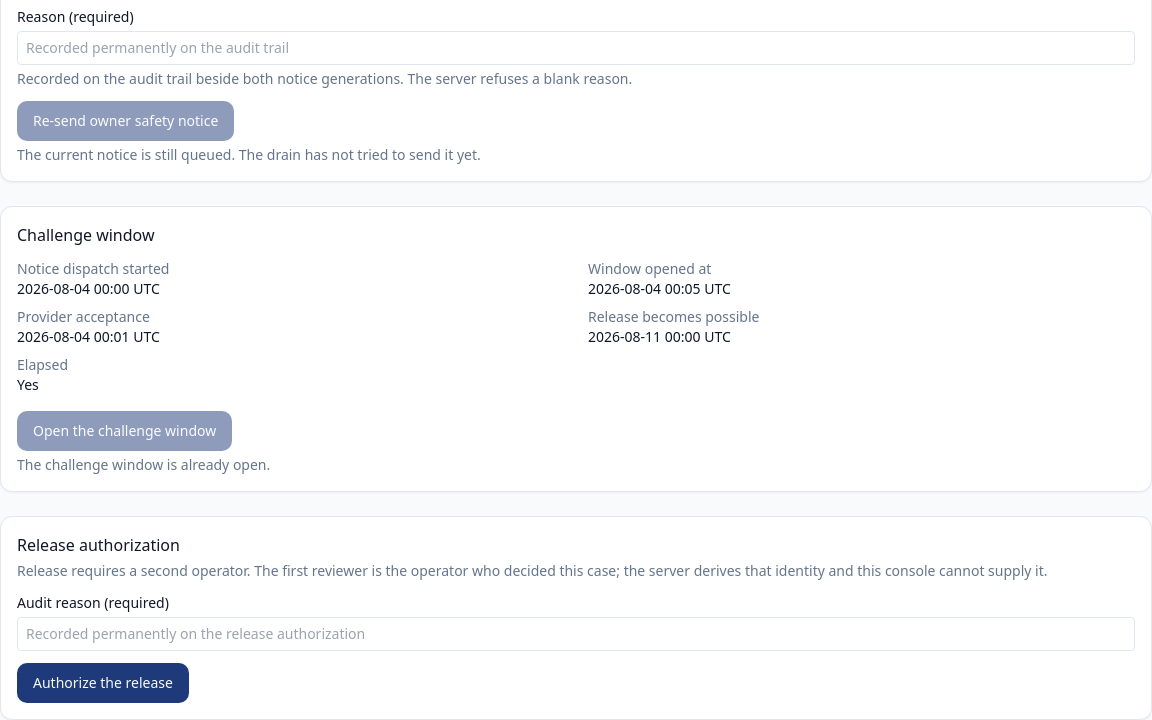
it: irreversible actions are distinguishable › names the specific consequence rather than asking 'are you sure'
(page scrolled)
Expected: the heading "Release authorization" is shown, [17,534,180,556]
Click the button "Authorize the release" at (103, 683), box [17,663,189,703]
(page scrolled)
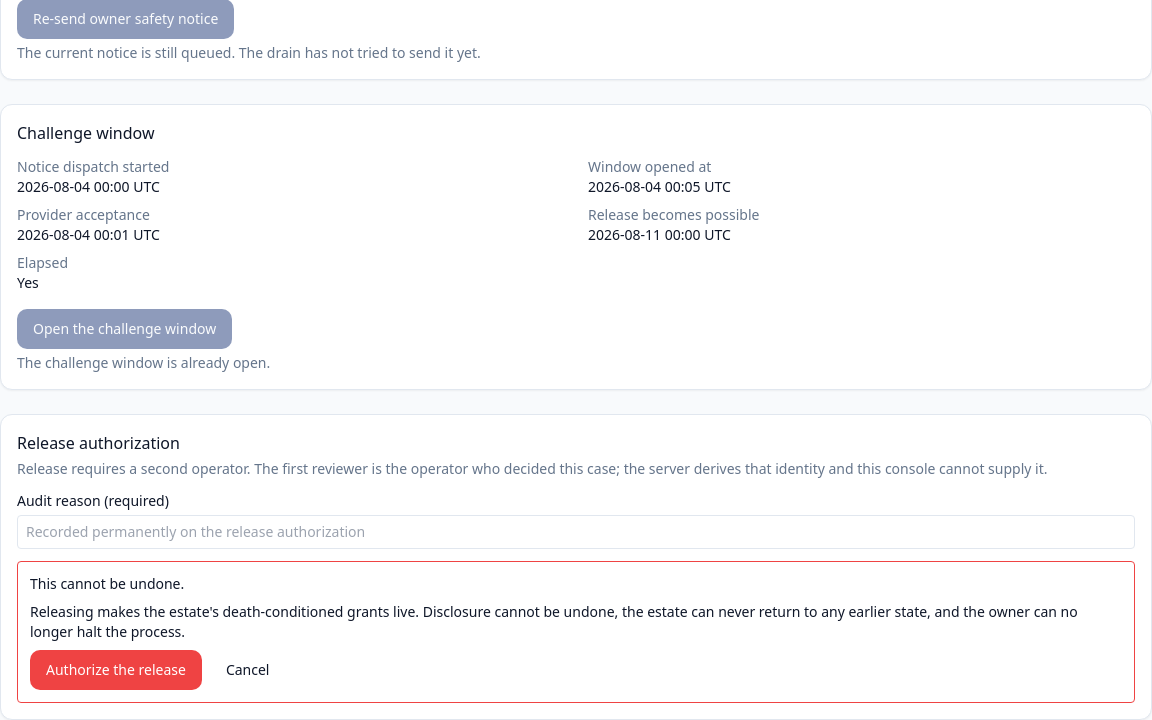
Expected: the text "disclosure cannot be undone" is shown, [30,602,1078,641]
